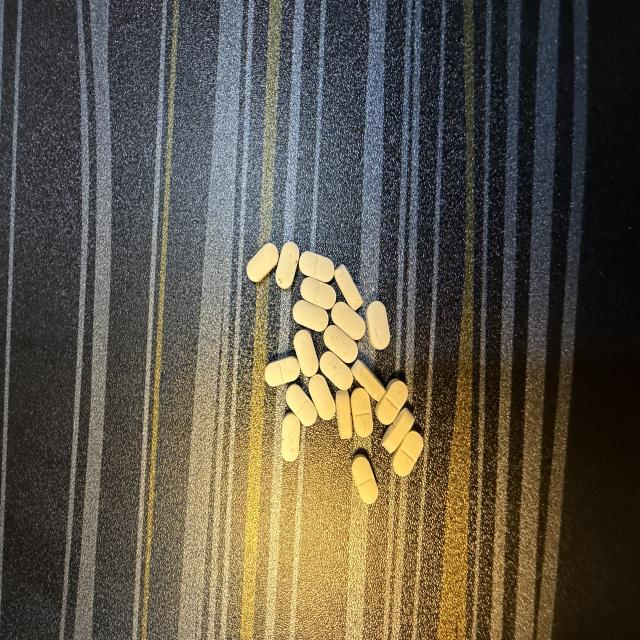pill: (381, 408, 415, 453), (376, 379, 407, 424), (392, 431, 423, 476), (351, 360, 385, 401), (352, 454, 378, 504), (324, 325, 358, 363), (286, 385, 317, 426), (335, 265, 363, 310), (332, 302, 365, 340), (320, 352, 353, 390), (247, 243, 278, 282), (309, 374, 335, 420), (366, 301, 390, 349), (294, 330, 318, 377), (301, 278, 336, 309), (293, 300, 328, 331), (276, 242, 299, 289), (351, 388, 373, 437), (265, 356, 300, 386), (299, 252, 334, 282), (281, 413, 300, 461), (335, 390, 352, 439)
